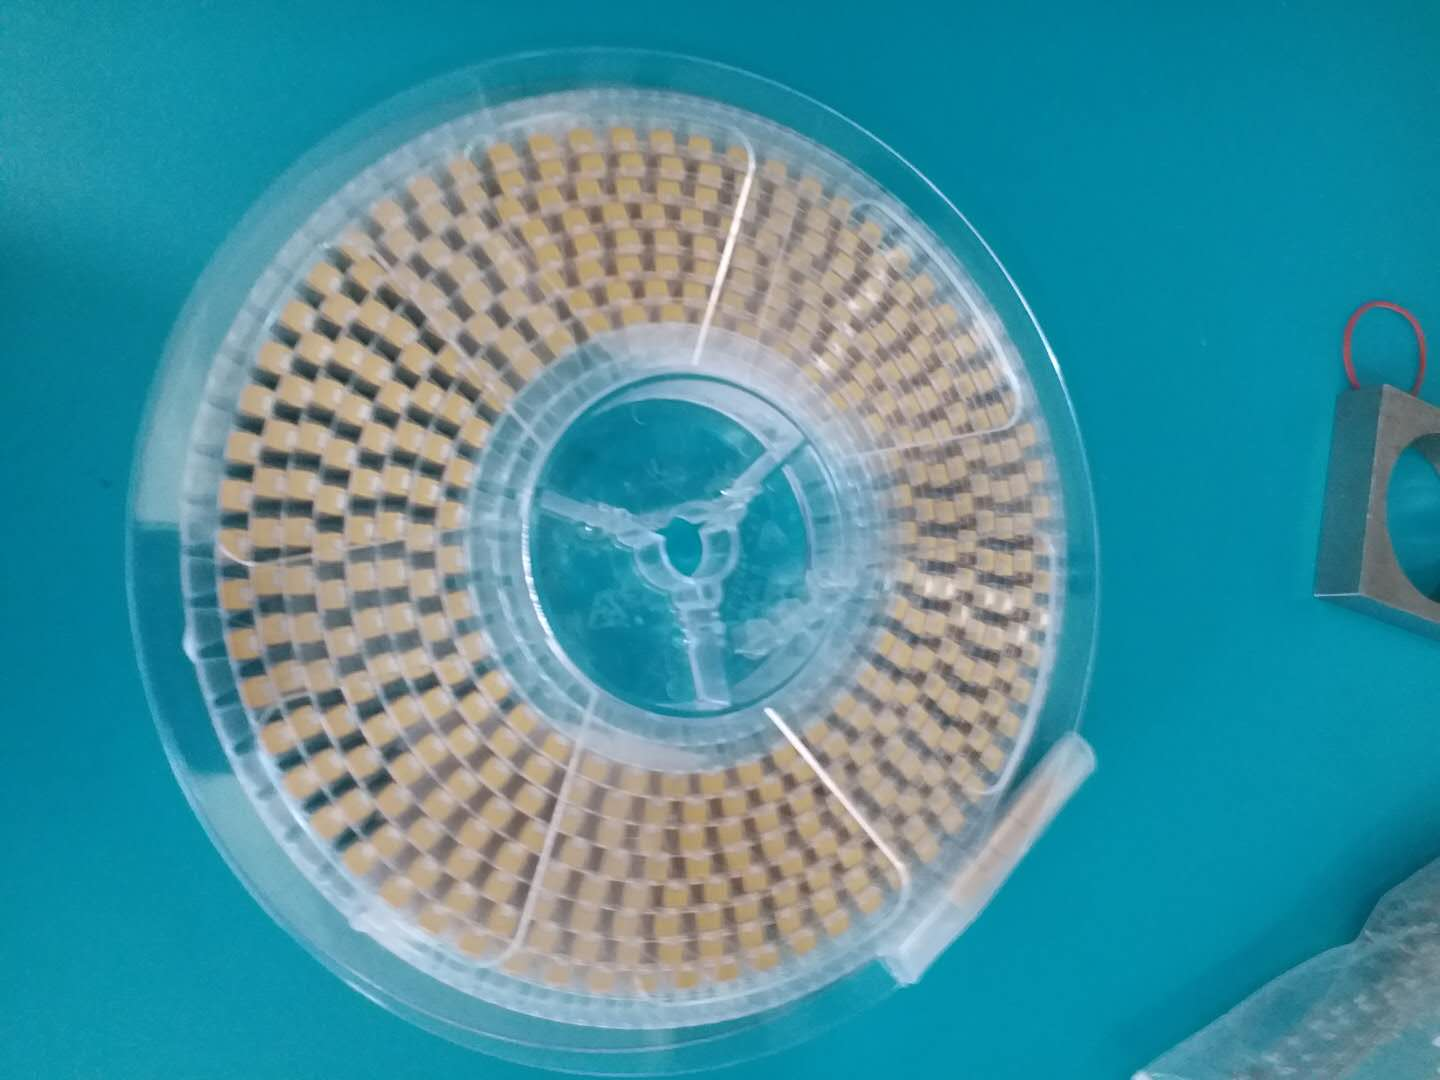G0: (317, 579, 345, 610), (308, 663, 336, 694), (715, 822, 749, 847), (757, 836, 790, 861), (778, 855, 812, 879), (571, 936, 600, 964), (325, 292, 350, 322), (356, 260, 380, 292), (410, 566, 437, 594), (522, 218, 551, 243), (658, 888, 691, 910), (715, 798, 753, 816), (734, 174, 761, 199), (498, 845, 524, 870), (482, 761, 508, 786), (386, 320, 409, 347), (361, 302, 384, 329), (353, 564, 375, 592), (644, 804, 679, 822), (592, 969, 617, 994), (876, 712, 900, 739), (425, 618, 448, 646), (420, 282, 439, 314), (482, 803, 510, 825), (329, 707, 350, 735), (448, 594, 472, 619), (404, 347, 427, 372), (381, 385, 405, 410), (429, 206, 451, 233), (410, 526, 433, 552), (698, 778, 727, 799), (329, 631, 357, 651), (804, 874, 833, 893), (440, 548, 464, 572), (598, 818, 621, 842), (730, 850, 754, 874), (519, 825, 544, 847), (380, 788, 403, 813), (362, 358, 384, 383), (336, 343, 358, 368), (605, 794, 628, 819), (657, 227, 683, 248), (463, 826, 489, 847), (626, 883, 647, 909), (617, 914, 638, 940), (636, 973, 658, 999), (652, 918, 683, 936), (507, 952, 527, 979), (693, 186, 721, 205), (541, 272, 569, 292), (861, 892, 889, 911), (303, 336, 325, 360), (232, 634, 256, 657), (379, 564, 403, 587), (697, 909, 720, 933), (463, 636, 488, 658), (533, 895, 554, 920), (390, 236, 420, 254), (584, 878, 604, 904), (535, 246, 562, 265), (582, 317, 612, 334), (294, 712, 316, 735), (374, 658, 397, 681), (575, 908, 598, 930), (685, 804, 708, 827), (708, 879, 726, 908), (744, 868, 766, 891), (463, 217, 486, 238), (488, 879, 513, 900), (393, 604, 414, 628), (622, 768, 649, 787), (846, 815, 875, 832), (772, 889, 799, 908), (754, 809, 776, 832), (253, 523, 274, 546), (254, 571, 276, 593), (268, 425, 289, 448), (361, 613, 382, 635), (344, 798, 367, 818), (363, 427, 383, 450), (316, 758, 340, 778), (435, 312, 459, 332), (300, 427, 320, 452), (393, 273, 420, 292), (616, 153, 645, 169), (376, 208, 406, 223), (396, 760, 417, 782), (395, 701, 416, 723), (225, 585, 246, 607), (603, 853, 625, 875), (681, 833, 703, 854), (801, 819, 823, 839), (689, 258, 717, 275), (454, 729, 474, 752), (420, 742, 442, 762), (313, 268, 333, 290), (265, 729, 288, 750), (246, 682, 266, 704), (498, 199, 525, 216), (558, 808, 581, 828), (816, 839, 840, 859), (417, 386, 437, 410), (328, 445, 347, 469), (298, 614, 317, 638), (289, 475, 308, 499), (412, 175, 431, 199), (542, 158, 561, 182), (444, 397, 463, 422), (439, 351, 457, 376), (316, 383, 334, 408), (225, 486, 243, 511), (406, 653, 431, 672), (658, 782, 688, 796), (658, 157, 684, 174), (661, 309, 687, 326), (351, 752, 373, 773), (286, 307, 306, 329), (492, 241, 514, 261), (643, 203, 664, 223), (541, 864, 561, 886), (519, 793, 542, 812), (494, 733, 514, 756), (450, 777, 473, 796), (425, 695, 448, 715), (369, 722, 391, 741), (321, 489, 340, 512), (742, 763, 761, 786), (1025, 461, 1044, 483), (700, 943, 727, 959), (658, 948, 685, 964), (450, 855, 474, 874), (398, 427, 416, 450), (232, 438, 251, 462), (689, 858, 708, 881), (949, 456, 967, 480), (777, 916, 802, 933), (604, 206, 629, 223), (488, 386, 513, 403), (825, 275, 842, 299), (916, 429, 937, 449), (528, 762, 550, 782), (486, 676, 506, 698), (465, 698, 484, 719), (427, 798, 449, 817), (500, 169, 519, 191), (739, 933, 765, 948), (691, 236, 717, 252), (829, 794, 855, 810), (287, 523, 305, 546), (762, 785, 785, 803), (771, 269, 789, 292), (344, 399, 361, 423), (853, 366, 876, 383), (471, 365, 490, 386), (466, 422, 485, 442), (413, 827, 433, 846), (937, 503, 956, 523), (976, 515, 996, 535), (649, 864, 670, 883), (375, 835, 397, 853), (247, 393, 265, 414), (618, 233, 639, 251), (1031, 496, 1049, 517), (1003, 441, 1022, 463), (972, 475, 990, 497), (908, 464, 926, 486), (794, 798, 816, 815), (259, 472, 276, 495), (425, 242, 442, 264), (658, 258, 680, 275), (569, 294, 592, 311), (547, 965, 569, 982), (905, 819, 927, 836), (727, 147, 749, 164), (342, 233, 369, 247), (621, 307, 647, 322), (583, 157, 607, 172), (644, 282, 668, 298), (900, 795, 924, 811), (937, 422, 952, 446), (576, 178, 595, 197), (823, 766, 842, 785), (678, 210, 705, 223), (769, 213, 789, 231), (805, 236, 823, 256), (579, 264, 604, 279), (605, 285, 630, 299), (776, 750, 797, 767), (567, 842, 584, 863), (549, 334, 570, 351), (491, 914, 513, 931), (545, 740, 567, 757), (1031, 610, 1048, 632), (938, 540, 955, 562), (759, 233, 776, 254), (491, 149, 514, 164), (387, 472, 403, 495), (266, 621, 282, 643), (582, 759, 604, 775), (878, 847, 900, 863), (570, 133, 594, 147), (930, 614, 945, 638), (986, 628, 1001, 652), (349, 852, 367, 871), (317, 816, 337, 834), (290, 775, 310, 793), (274, 668, 293, 687), (283, 381, 302, 400), (739, 903, 759, 921), (952, 761, 971, 781), (948, 405, 966, 424), (846, 386, 864, 405), (816, 898, 837, 916), (513, 712, 533, 729), (413, 867, 433, 884), (534, 925, 554, 942), (876, 786, 897, 803), (904, 758, 924, 775), (855, 712, 875, 729), (1003, 391, 1020, 412), (832, 258, 853, 275), (844, 852, 865, 868), (454, 160, 469, 182), (618, 182, 639, 197), (684, 286, 705, 302), (962, 698, 977, 719), (973, 413, 989, 434), (810, 212, 831, 228), (642, 835, 664, 850), (659, 183, 681, 197), (854, 744, 876, 759), (943, 733, 958, 756), (984, 446, 999, 469), (503, 269, 526, 284), (735, 248, 753, 267), (320, 537, 337, 556), (893, 429, 913, 446), (766, 289, 783, 309), (427, 441, 443, 462), (225, 532, 240, 552), (567, 214, 587, 230), (920, 843, 940, 859), (910, 714, 926, 734), (941, 306, 957, 327), (569, 784, 591, 799), (840, 231, 855, 253), (530, 140, 554, 152), (866, 280, 879, 305), (449, 896, 472, 910), (351, 521, 365, 543), (618, 259, 641, 272), (931, 466, 948, 484), (863, 421, 880, 439), (835, 199, 852, 217), (774, 189, 802, 201), (793, 252, 810, 270), (916, 334, 927, 361), (264, 348, 280, 368), (465, 186, 481, 205), (889, 743, 908, 759), (901, 559, 917, 579), (955, 493, 971, 513), (999, 520, 1015, 539), (865, 223, 881, 243), (1033, 535, 1048, 556), (898, 524, 918, 539), (791, 769, 815, 782), (697, 164, 721, 177), (805, 285, 818, 309), (613, 130, 635, 144), (382, 515, 396, 537), (951, 606, 965, 627), (1013, 476, 1026, 498), (852, 297, 865, 319), (501, 334, 518, 351), (842, 702, 859, 719), (915, 275, 932, 292), (992, 407, 1008, 425), (941, 343, 957, 361), (889, 251, 905, 269), (962, 658, 976, 677), (718, 963, 737, 978), (969, 729, 984, 749), (965, 442, 980, 462), (1016, 587, 1027, 611), (996, 592, 1008, 615), (893, 307, 905, 332), (417, 483, 431, 504), (356, 474, 370, 495), (543, 191, 564, 204), (858, 769, 879, 783), (1016, 551, 1030, 572), (945, 697, 962, 712), (351, 682, 369, 698), (947, 813, 964, 829), (876, 397, 893, 413), (861, 337, 876, 354), (722, 219, 739, 235), (893, 282, 909, 299), (922, 312, 933, 336), (1025, 644, 1037, 666), (918, 499, 933, 517), (962, 340, 976, 358), (927, 727, 941, 746), (999, 660, 1013, 680), (996, 555, 1009, 574), (444, 505, 456, 528), (386, 891, 406, 903), (577, 239, 598, 252), (1036, 572, 1049, 592), (1008, 624, 1020, 644), (903, 351, 913, 376), (452, 261, 468, 277), (931, 792, 947, 808), (909, 611, 925, 627), (883, 366, 899, 382), (930, 680, 945, 697), (833, 739, 848, 756), (1001, 717, 1018, 732), (1016, 515, 1031, 532), (831, 307, 846, 324), (897, 489, 910, 507), (937, 372, 950, 390), (452, 463, 464, 484), (942, 642, 955, 661), (920, 538, 932, 557), (994, 483, 1007, 503), (920, 389, 932, 408), (289, 575, 305, 590), (927, 765, 942, 781), (1014, 681, 1028, 697), (959, 571, 974, 587), (1020, 427, 1035, 442), (888, 454, 903, 470), (507, 295, 524, 309), (966, 776, 980, 793), (979, 663, 989, 685), (975, 587, 986, 607), (933, 579, 947, 596), (878, 684, 896, 697), (980, 371, 992, 389), (871, 258, 881, 279), (879, 324, 889, 346), (678, 974, 697, 986), (901, 398, 913, 417), (444, 667, 460, 681), (979, 552, 992, 568), (962, 380, 974, 397), (736, 273, 753, 286), (766, 161, 787, 171), (989, 693, 1000, 711), (862, 672, 876, 685), (852, 879, 867, 892), (895, 599, 903, 624), (796, 940, 815, 951), (960, 533, 971, 552), (801, 179, 820, 189), (803, 369, 820, 380), (802, 310, 819, 321), (759, 956, 777, 967), (825, 355, 839, 369), (903, 691, 917, 703), (762, 310, 774, 324), (832, 921, 848, 933), (835, 335, 850, 346), (691, 141, 710, 150), (986, 746, 996, 766), (520, 358, 534, 371), (796, 331, 810, 344), (884, 639, 896, 653), (740, 324, 759, 334), (725, 297, 743, 306), (835, 396, 845, 412), (921, 656, 931, 670), (903, 650, 913, 665), (465, 940, 480, 951), (652, 135, 674, 142), (971, 621, 979, 639), (813, 729, 827, 740), (776, 347, 789, 357), (915, 576, 924, 591), (691, 887, 698, 903), (534, 315, 547, 324), (469, 289, 477, 303), (424, 919, 438, 926), (475, 323, 483, 335)
